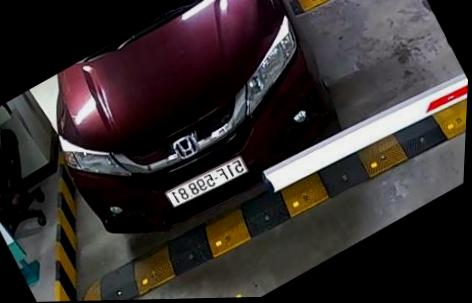License_Plate: (158, 153, 250, 214)
